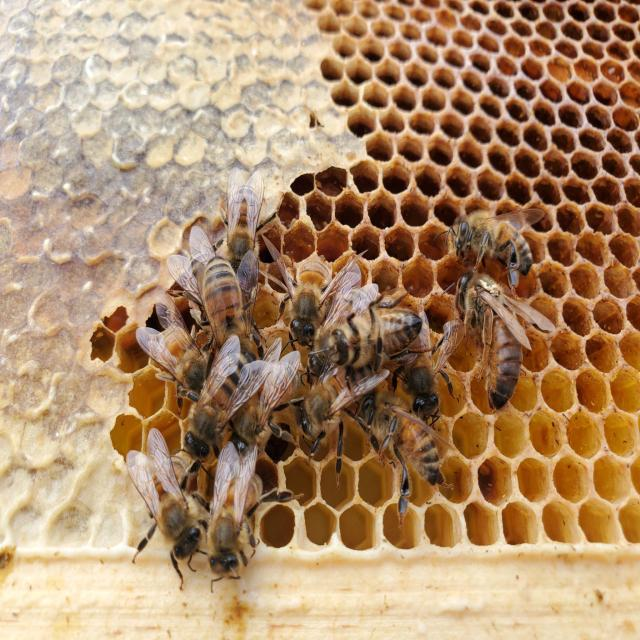honeybee: (448, 275, 538, 416), (124, 438, 210, 574), (140, 290, 226, 415), (269, 241, 357, 348), (201, 446, 266, 582), (365, 392, 449, 497), (181, 334, 254, 449), (386, 307, 459, 421), (286, 351, 370, 449), (179, 238, 246, 360), (436, 203, 534, 281), (311, 303, 431, 366), (199, 252, 264, 364), (211, 162, 266, 270), (234, 343, 284, 444), (169, 222, 221, 305)
